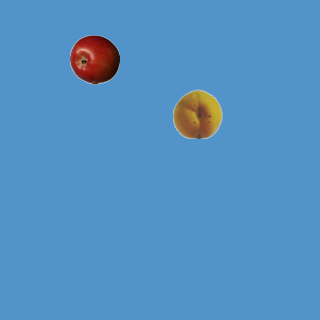Apple Braeburn: (69, 34, 119, 84)
Peach 2: (172, 88, 222, 138)
